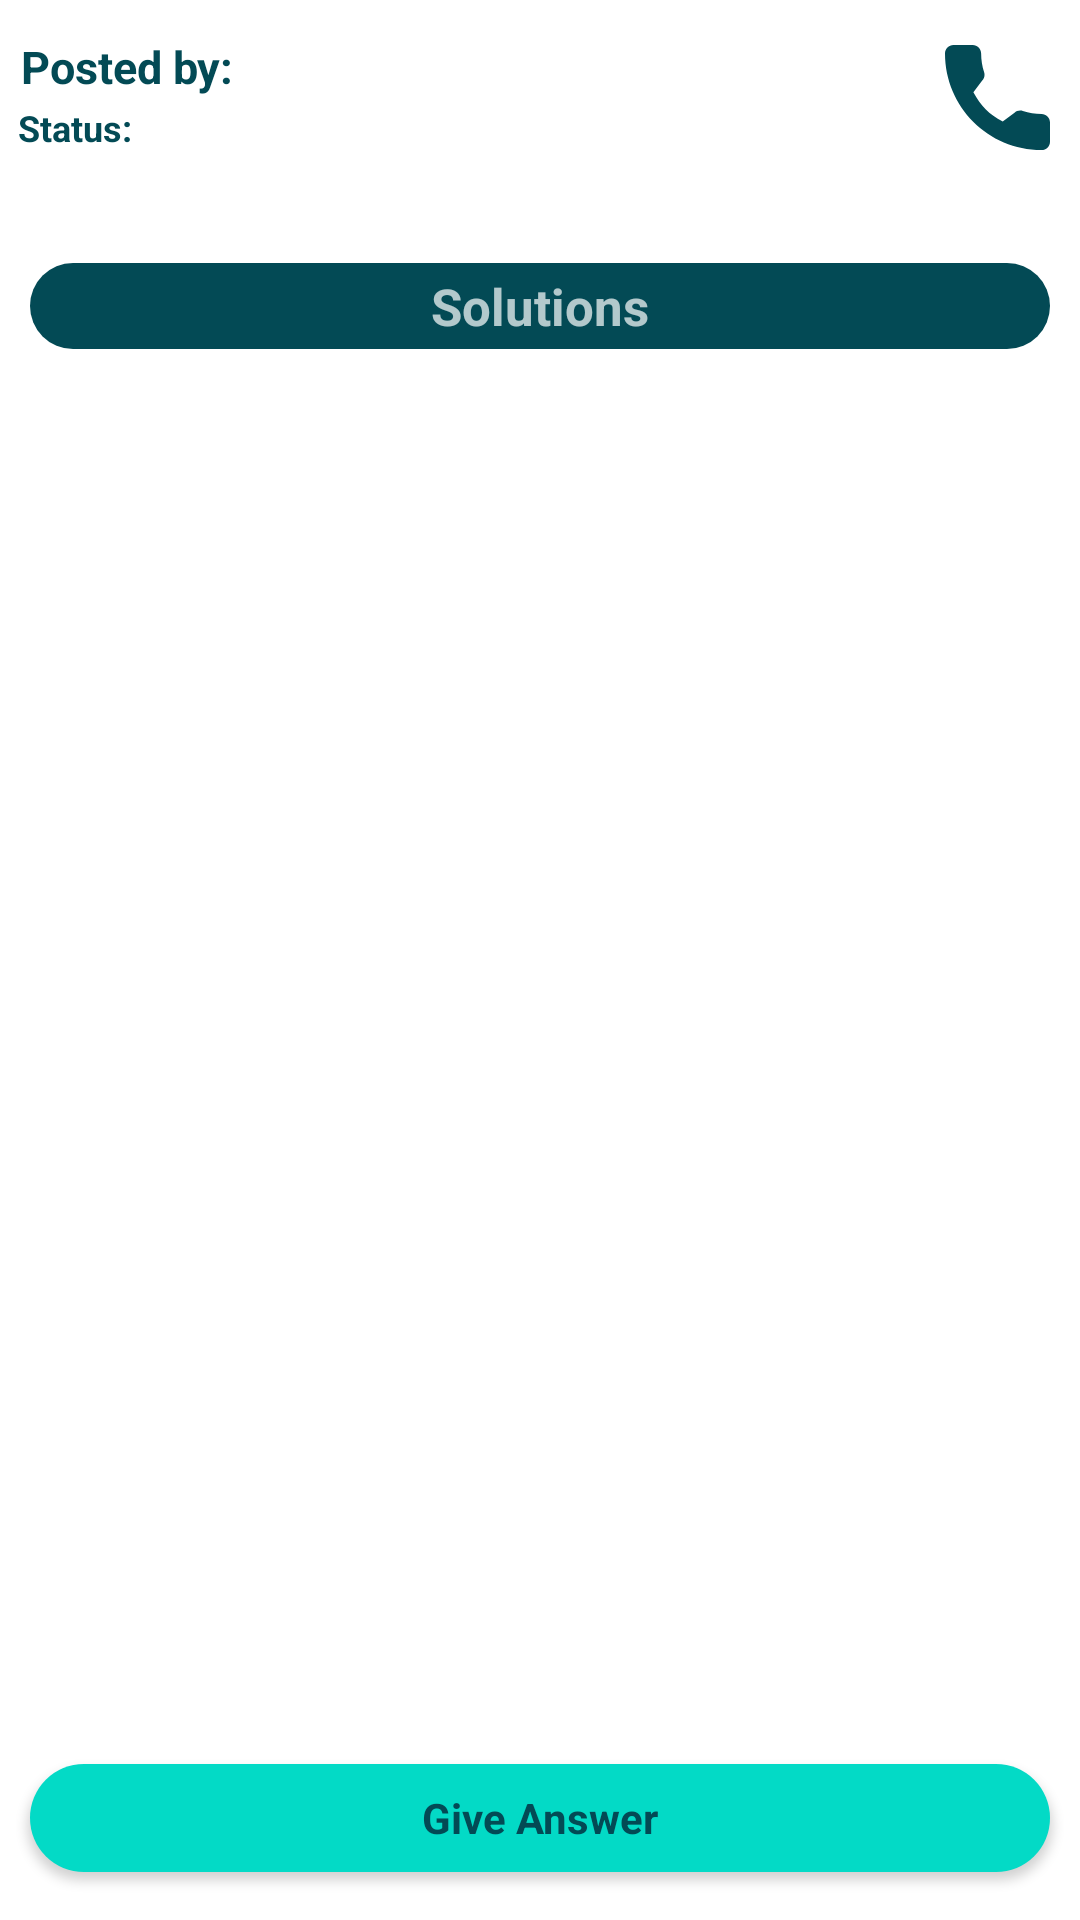

Point at icon controls on the screen. Image size 1080 × 1920, points as (x=x, y=y).
phone: (x=997, y=97)
